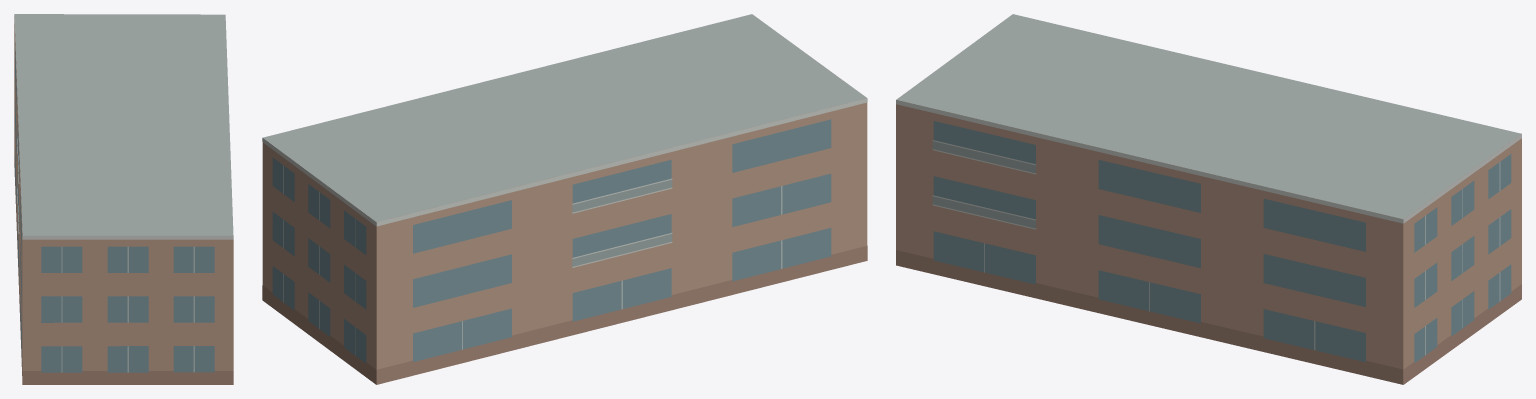
The model's file is survey-upis-32565027.glb.
The picture shows the model from 3 angles, left to right: view 1: azimuth 30°, elevation 25°; view 2: azimuth 150°, elevation 25°; view 3: azimuth 270°, elevation 25°; orthographic projection. The views are drawn at different scales.
Visible parts, largest first — view 1: survey-upis-32565027.tmp; view 2: survey-upis-32565027.tmp; view 3: survey-upis-32565027.tmp.
Boxes of the visible parts, x1,y1,x2,y2 form: survey-upis-32565027.tmp: (14, 14, 233, 384); survey-upis-32565027.tmp: (262, 14, 867, 384); survey-upis-32565027.tmp: (896, 14, 1521, 384).
Size of the model in its own units: 24.33 by 9.15 by 31.34.
